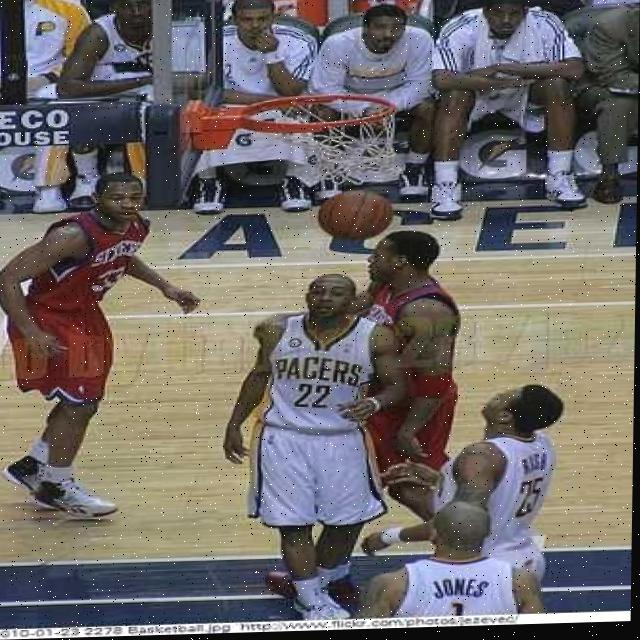basketball: (317, 189, 396, 242)
hoop: (237, 89, 403, 188)
